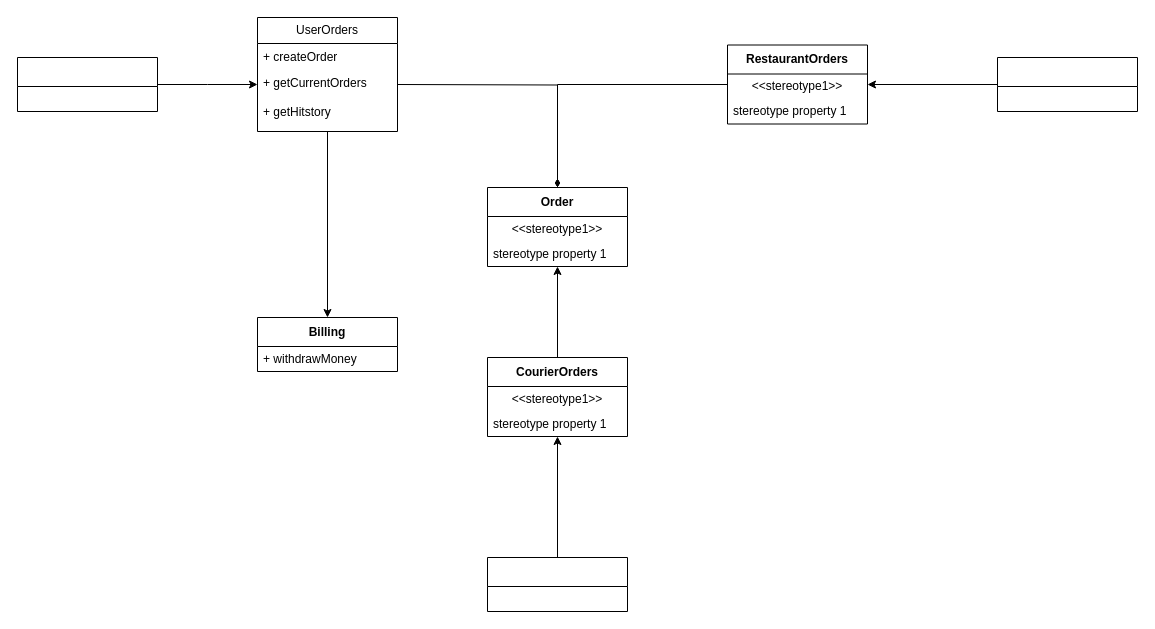
This 1155x629 diagram has some shape labels left out. The shapes that lost their labels are listed below. From the top down, each one's centre as x and y in pixels, then its label:
point (87, 84): User
point (1067, 84): Restaurant
point (557, 584): Courier
